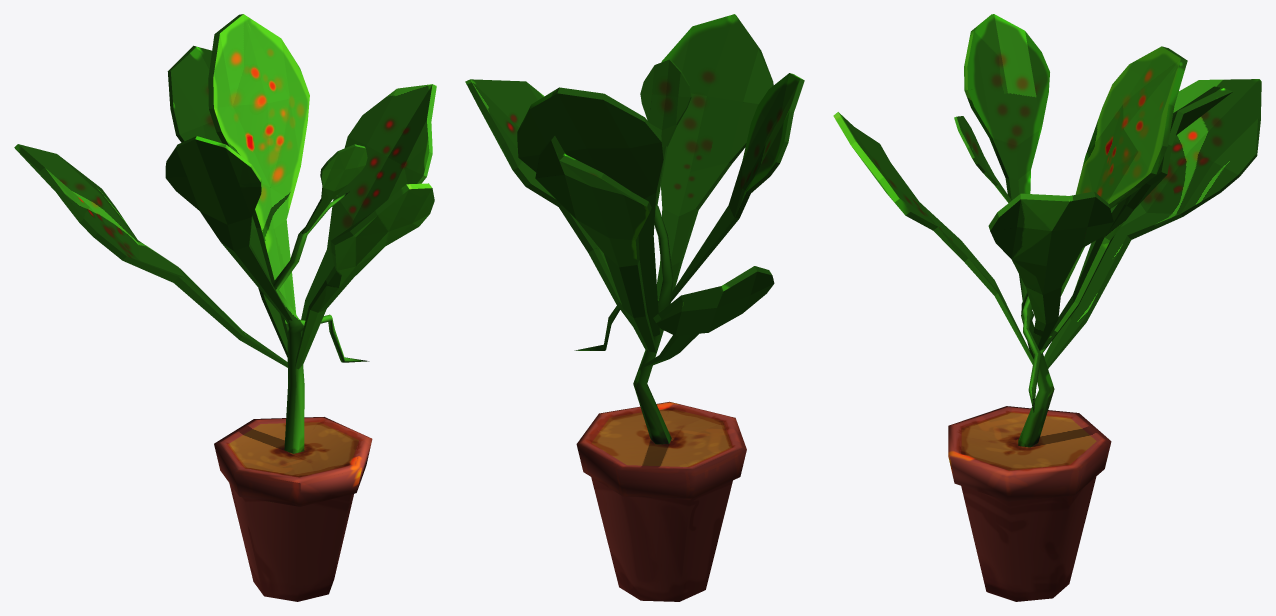
3 renders of one model, left to right at view 1: azimuth 30°, elevation 25°; view 2: azimuth 150°, elevation 25°; view 3: azimuth 270°, elevation 25°, orthographic. The views are drawn at different scales.
Parts seen in each view (by area): view 1: Circle.001; view 2: Circle.001; view 3: Circle.001.
Part boxes in pixels (x1,y1,x2,y2): Circle.001: [14, 14, 436, 601]; Circle.001: [465, 14, 804, 601]; Circle.001: [833, 14, 1261, 601].
Bounding box in the file's own units: 223 × 325 × 235.
Materials: 1 (1 with a texture image).
